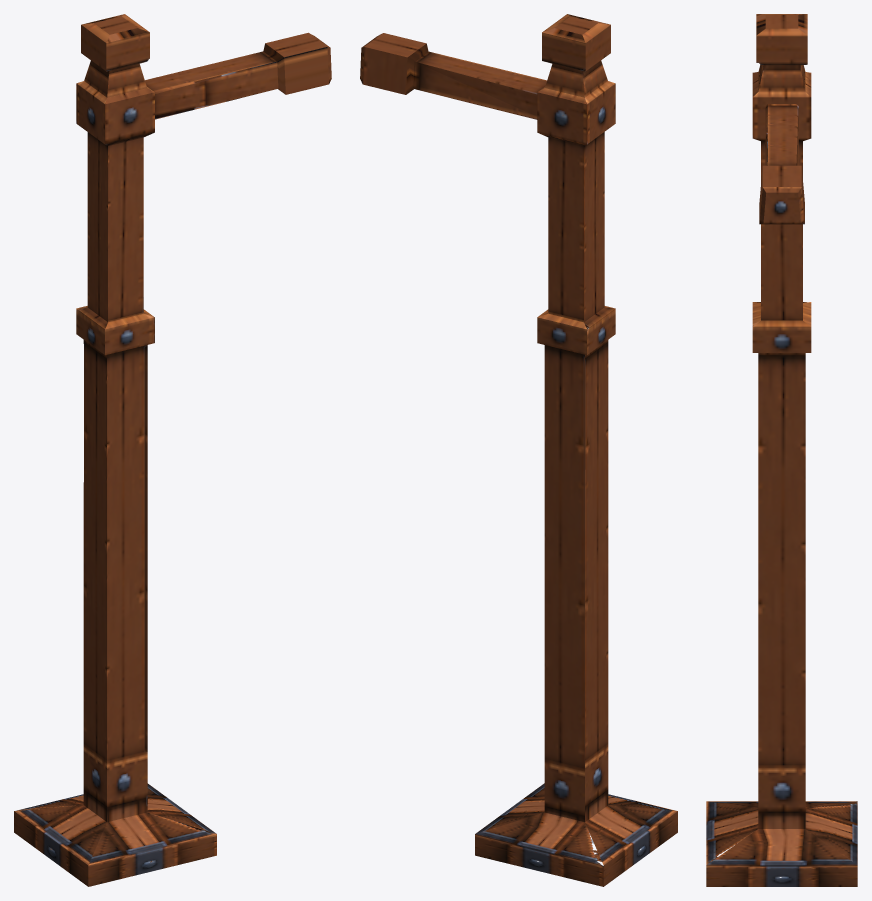
File: wooden_post_01.fbx
The picture shows the model from 3 angles, left to right: view 1: azimuth 30°, elevation 25°; view 2: azimuth 150°, elevation 25°; view 3: azimuth 270°, elevation 25°; orthographic projection.
Parts seen in each view (by area): view 1: wooden_post_01; view 2: wooden_post_01; view 3: wooden_post_01.
Part boxes in pixels (box(x1,y1,x2,y2)): wooden_post_01: box(14, 14, 331, 886); wooden_post_01: box(360, 14, 677, 886); wooden_post_01: box(706, 14, 857, 886).
Size of the model in its own units: 3.8 by 10.94 by 1.8.
